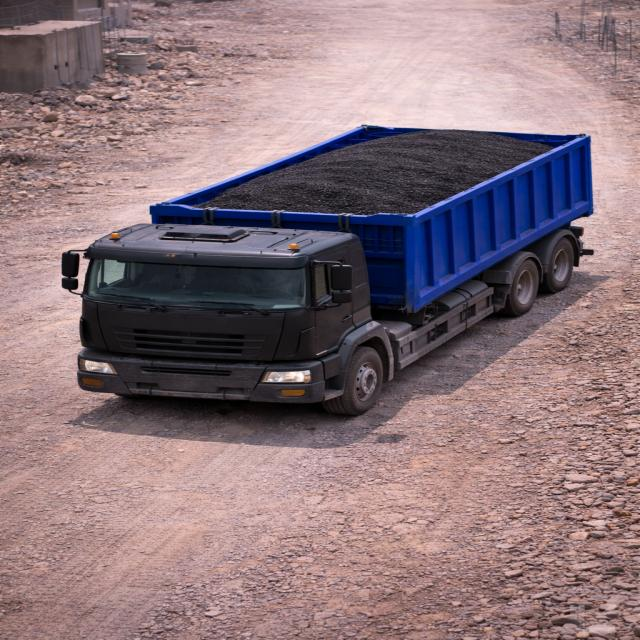Box: (148, 120, 584, 218)
Truck: (46, 118, 602, 426)
